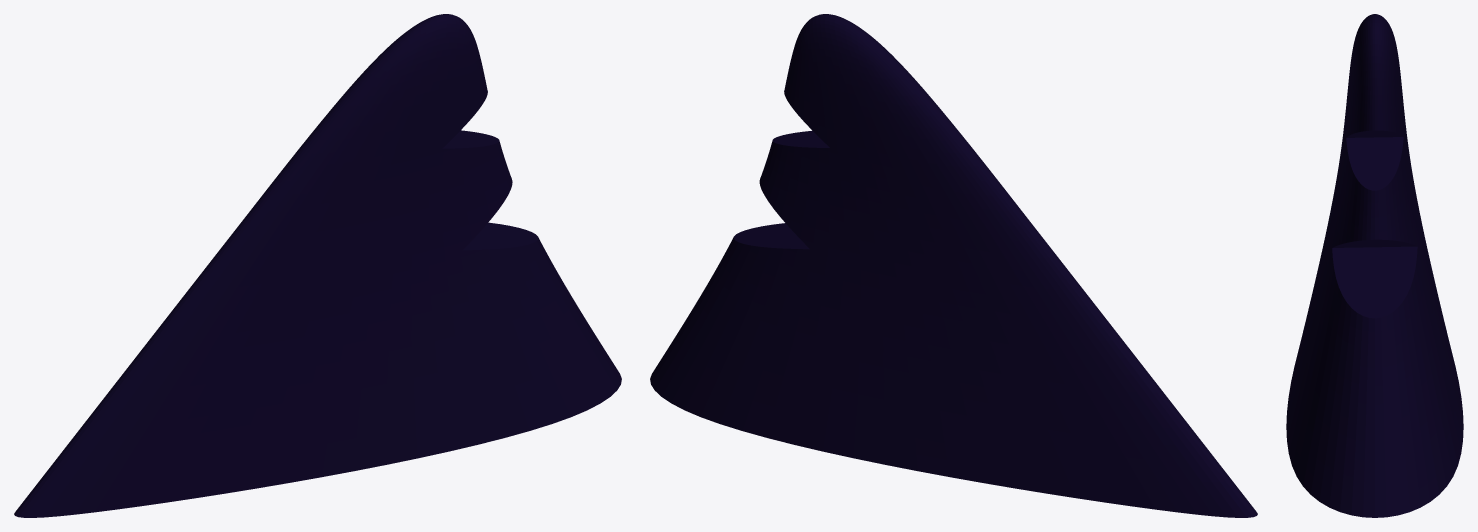
Rendered from shark.fbx.
3 views of the same model, side by side, from view 1: azimuth 30°, elevation 25°; view 2: azimuth 150°, elevation 25°; view 3: azimuth 270°, elevation 25° (orthographic). The views are drawn at different scales.
Visible parts, largest first — view 1: Shark; view 2: Shark; view 3: Shark.
Boxes of the visible parts, bbox=[...] form: Shark: bbox=[14, 14, 621, 517]; Shark: bbox=[650, 14, 1257, 517]; Shark: bbox=[1286, 14, 1463, 517].
Bounding box in the file's own units: 259 × 163 × 64.03.
